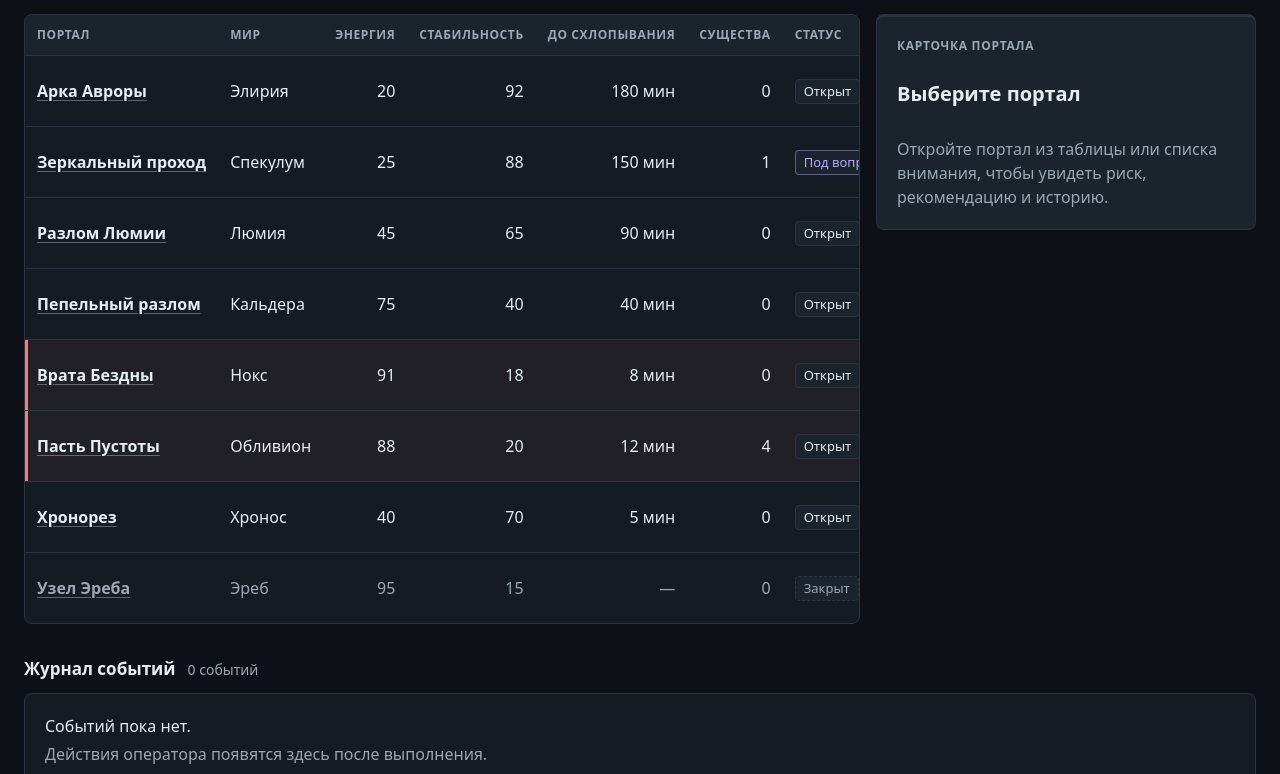
Test: Действия над порталами › запрещённое действие недоступно, и причина запрета видна
(page scrolled)
Click the button "Врата Бездны" at [95, 375], box [37,363,154,387]
(page scrolled)
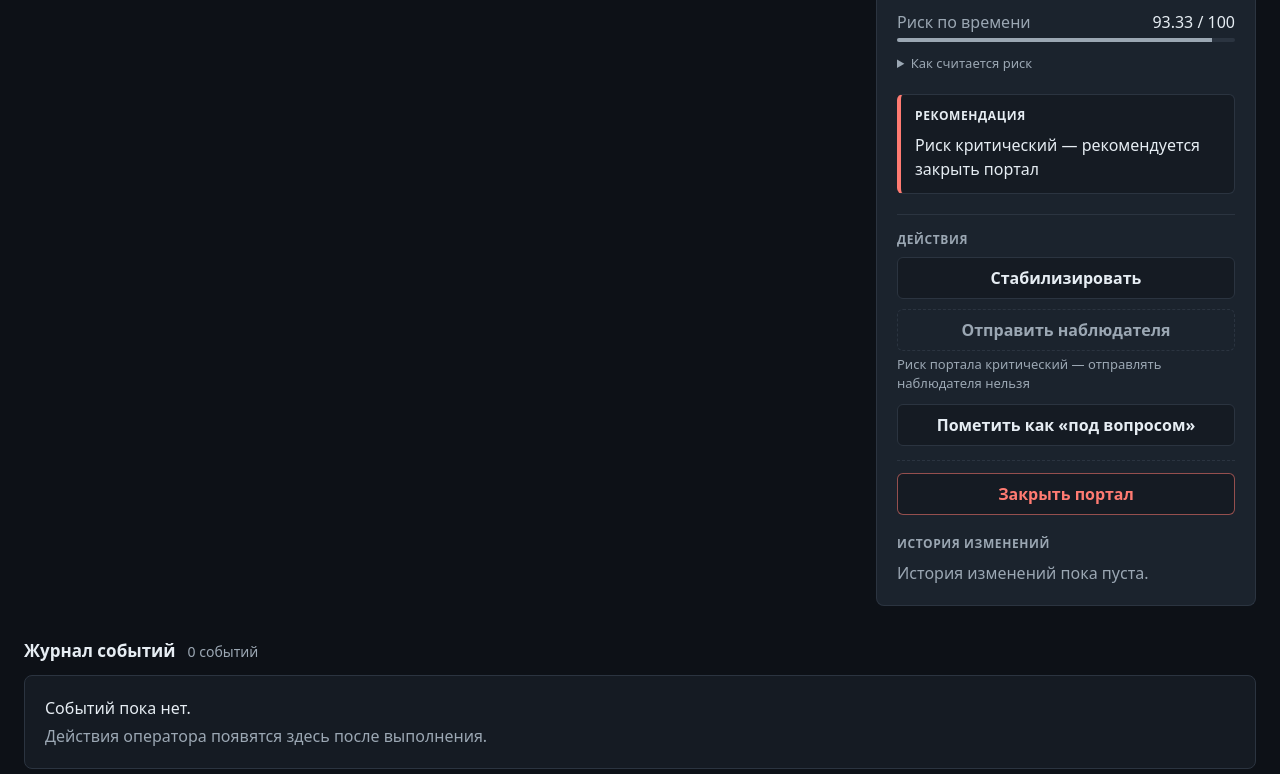
Expected: the button "Отправить наблюдателя" is disabled, [897,309,1235,351]
Expected: the text "Риск портала критический — отправлять наблюдателя нельзя" is shown, [897,355,1161,392]
